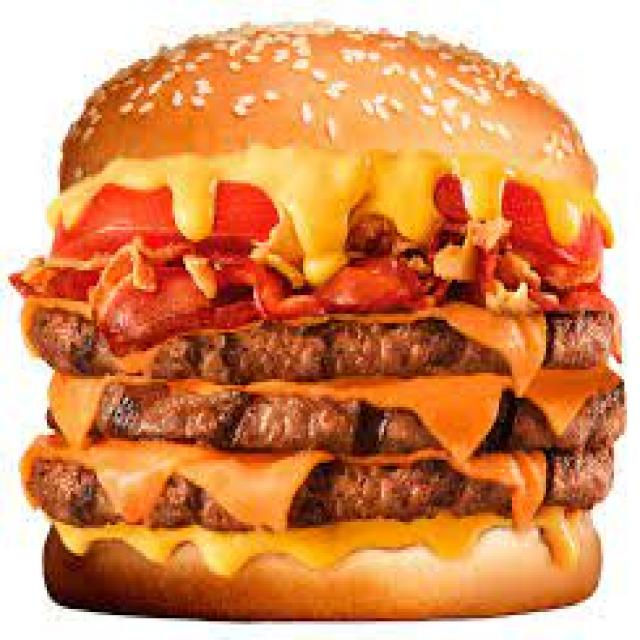Wet Waste: (38, 45, 620, 630)
